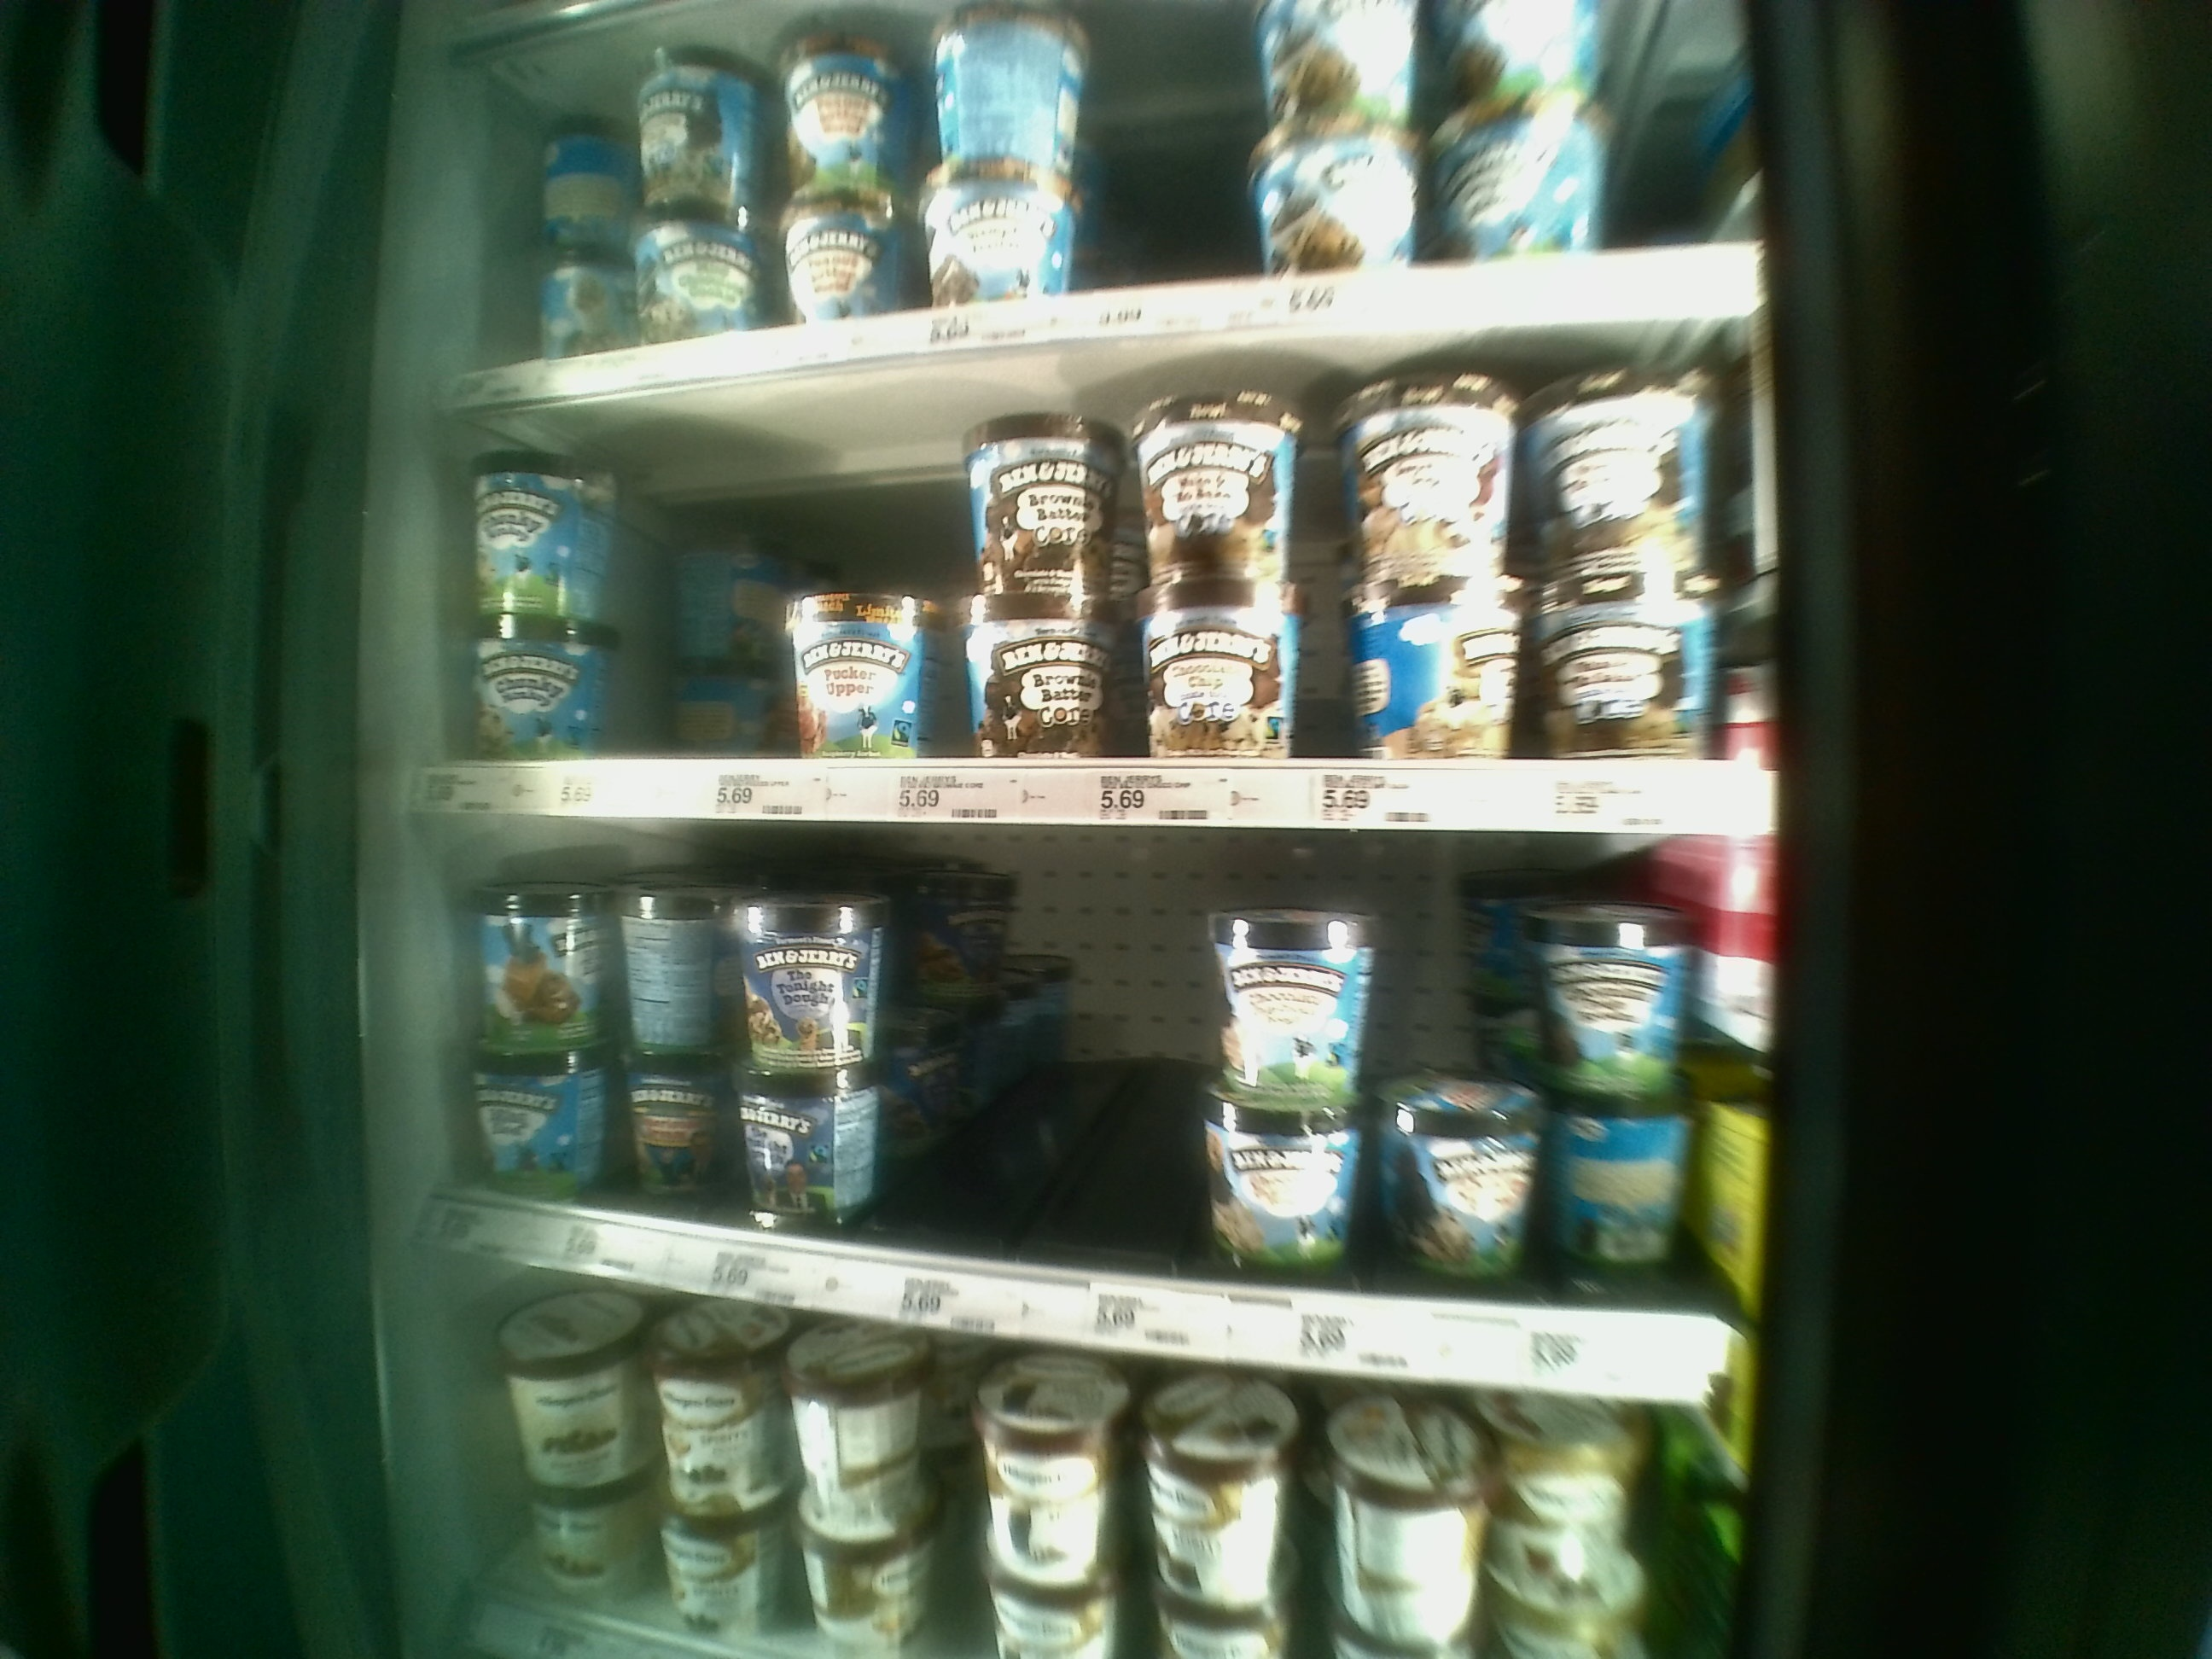shelf: (432, 823, 1775, 1396), (444, 315, 1771, 831)
